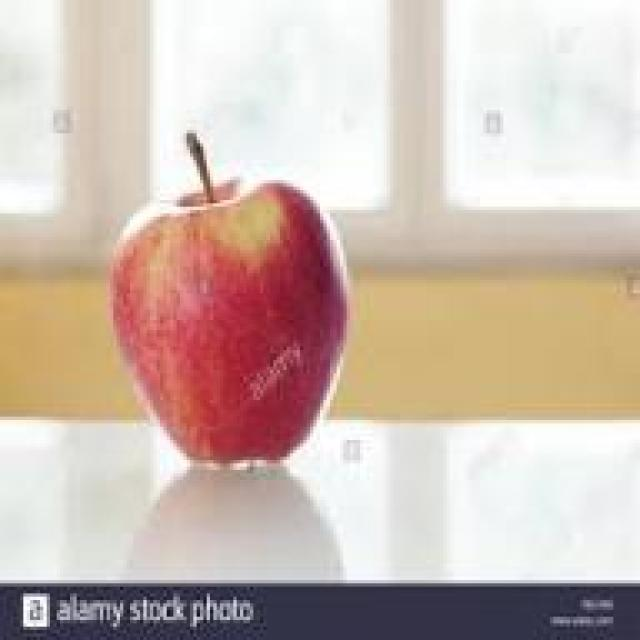apple: (100, 180, 350, 477)
